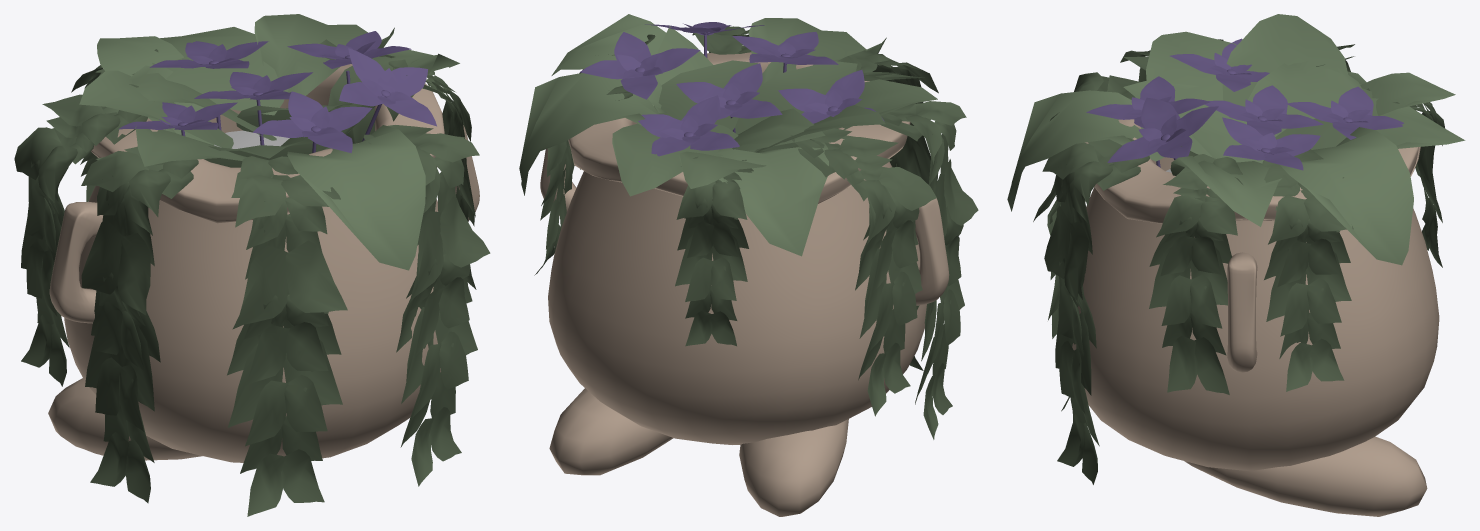
The model's file is M_PC2_1stDraft.fbx.
3 renders of one model, left to right at view 1: azimuth 30°, elevation 25°; view 2: azimuth 150°, elevation 25°; view 3: azimuth 270°, elevation 25°, orthographic. The views are drawn at different scales.
Visible parts, largest first — view 1: polySurface55; view 2: polySurface55; view 3: polySurface55.
Part boxes in pixels (box(x1,y1,x2,y2)): polySurface55: box(14, 14, 490, 516); polySurface55: box(519, 14, 978, 516); polySurface55: box(1007, 14, 1465, 516).
Bounding box in the file's own units: 0.7333 × 0.6795 × 0.7114.
